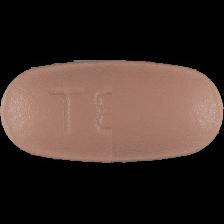35356-711: (0, 0, 224, 224)
